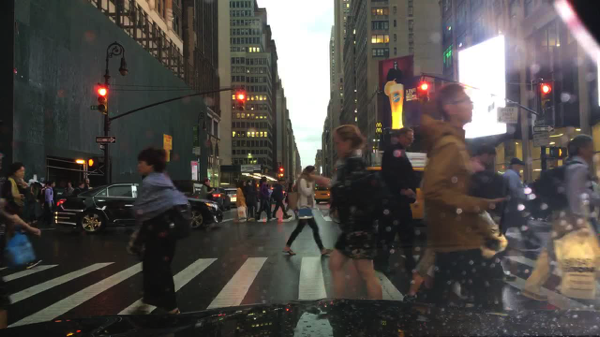car: (55, 183, 221, 234), (363, 168, 424, 226), (173, 180, 222, 223), (515, 180, 552, 221), (212, 188, 231, 211), (314, 184, 332, 204), (225, 189, 239, 206)
person: (407, 81, 517, 311), (518, 133, 599, 303), (126, 146, 194, 320), (325, 124, 382, 302), (372, 129, 427, 275), (471, 141, 516, 283), (282, 165, 336, 260), (0, 174, 41, 279), (499, 159, 544, 254), (1, 162, 32, 261), (257, 177, 277, 222), (235, 179, 251, 223), (37, 180, 51, 226), (283, 183, 300, 220), (44, 180, 57, 227), (246, 179, 260, 222), (271, 180, 285, 220), (199, 180, 215, 206), (63, 180, 74, 200), (75, 181, 84, 201), (84, 179, 90, 194)
traffic light: (95, 85, 111, 114), (538, 82, 552, 111), (236, 90, 245, 111), (421, 83, 429, 104), (552, 147, 566, 158), (415, 81, 420, 103), (88, 158, 98, 166), (279, 167, 284, 177), (266, 167, 269, 175)
traffic sign: (497, 107, 518, 123), (533, 131, 551, 147), (532, 125, 556, 132), (96, 136, 116, 143), (240, 166, 253, 172), (88, 105, 103, 110), (193, 148, 201, 155), (253, 165, 261, 171), (100, 144, 105, 151)
